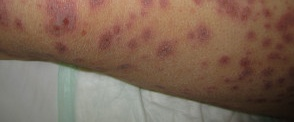SJS-TEN: (85, 0, 217, 102), (194, 0, 294, 108), (41, 0, 110, 70), (0, 0, 31, 32)
